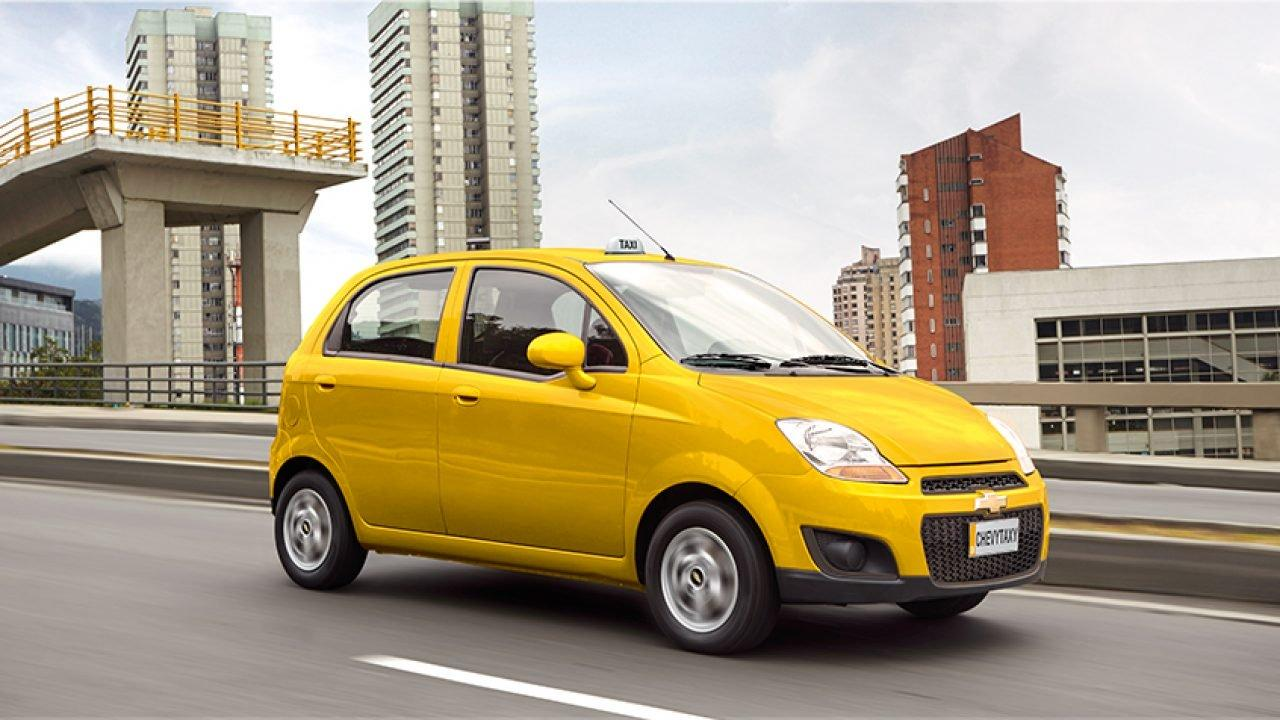taxi: (222, 212, 1076, 644)
